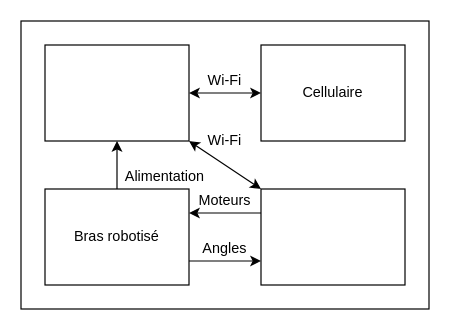
This 450x330 diagram has some shape labels left out. Here are the shapes that lost their labels. From the top down, the box of each, then its label:
(44, 44, 189, 141): Caméra
(260, 188, 405, 285): Centre de contrôle
